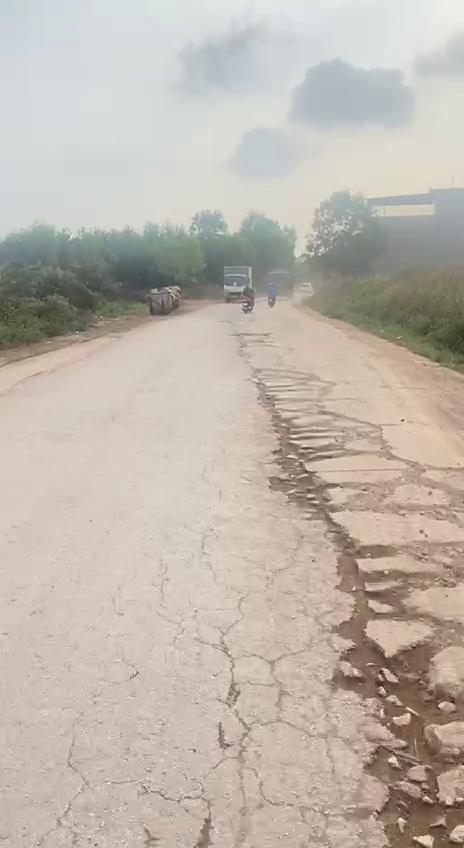pothole: (318, 549, 464, 848), (253, 380, 463, 549)
